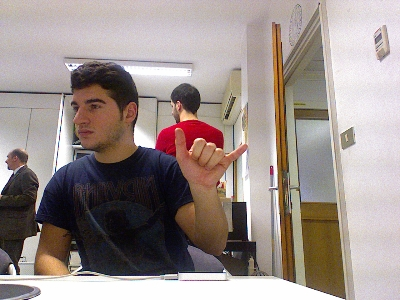六六六: (172, 128, 249, 187)
